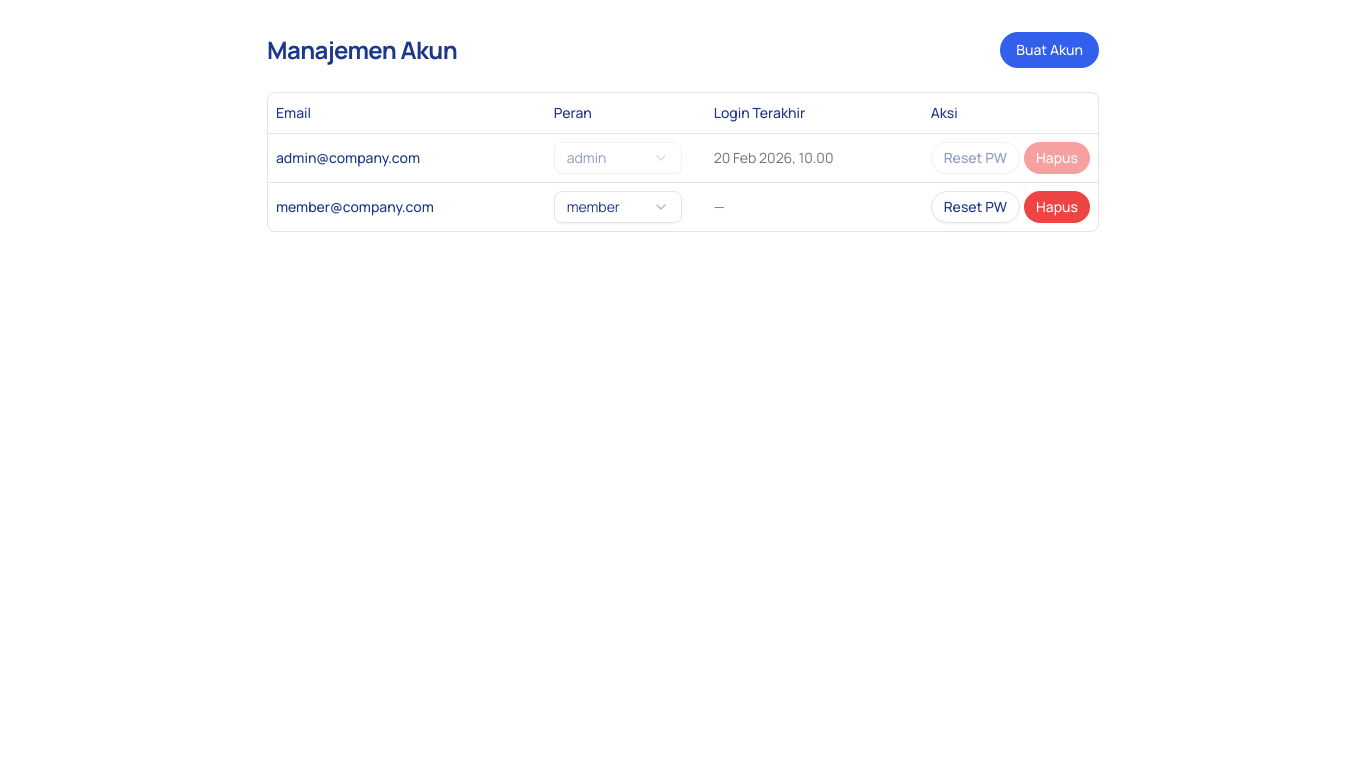
AccountsPage › opens create account dialog
Click the button "Buat Akun". click: [1050, 50]
box: x1=1000 y1=32 x2=1099 y2=68
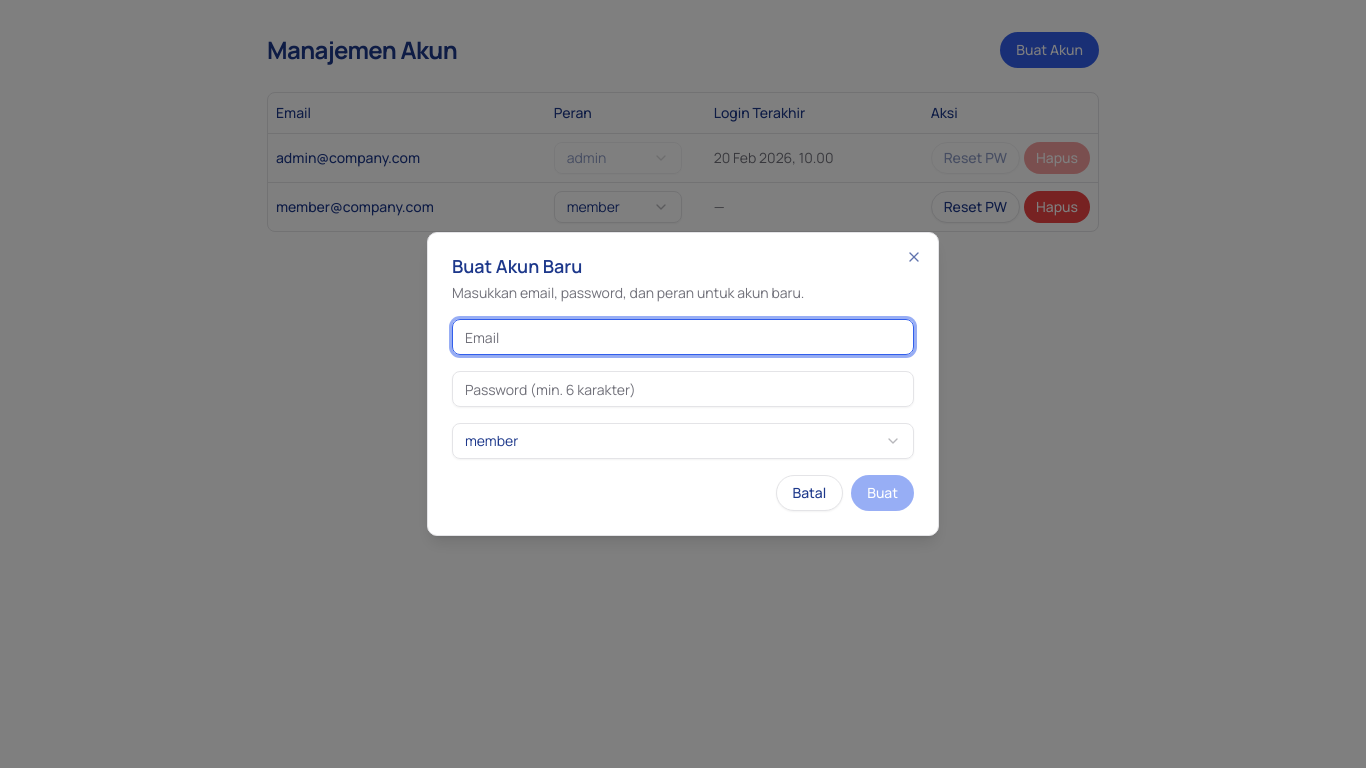
Expected: the heading "Buat Akun Baru" is shown, x1=452 y1=254 x2=582 y2=278
